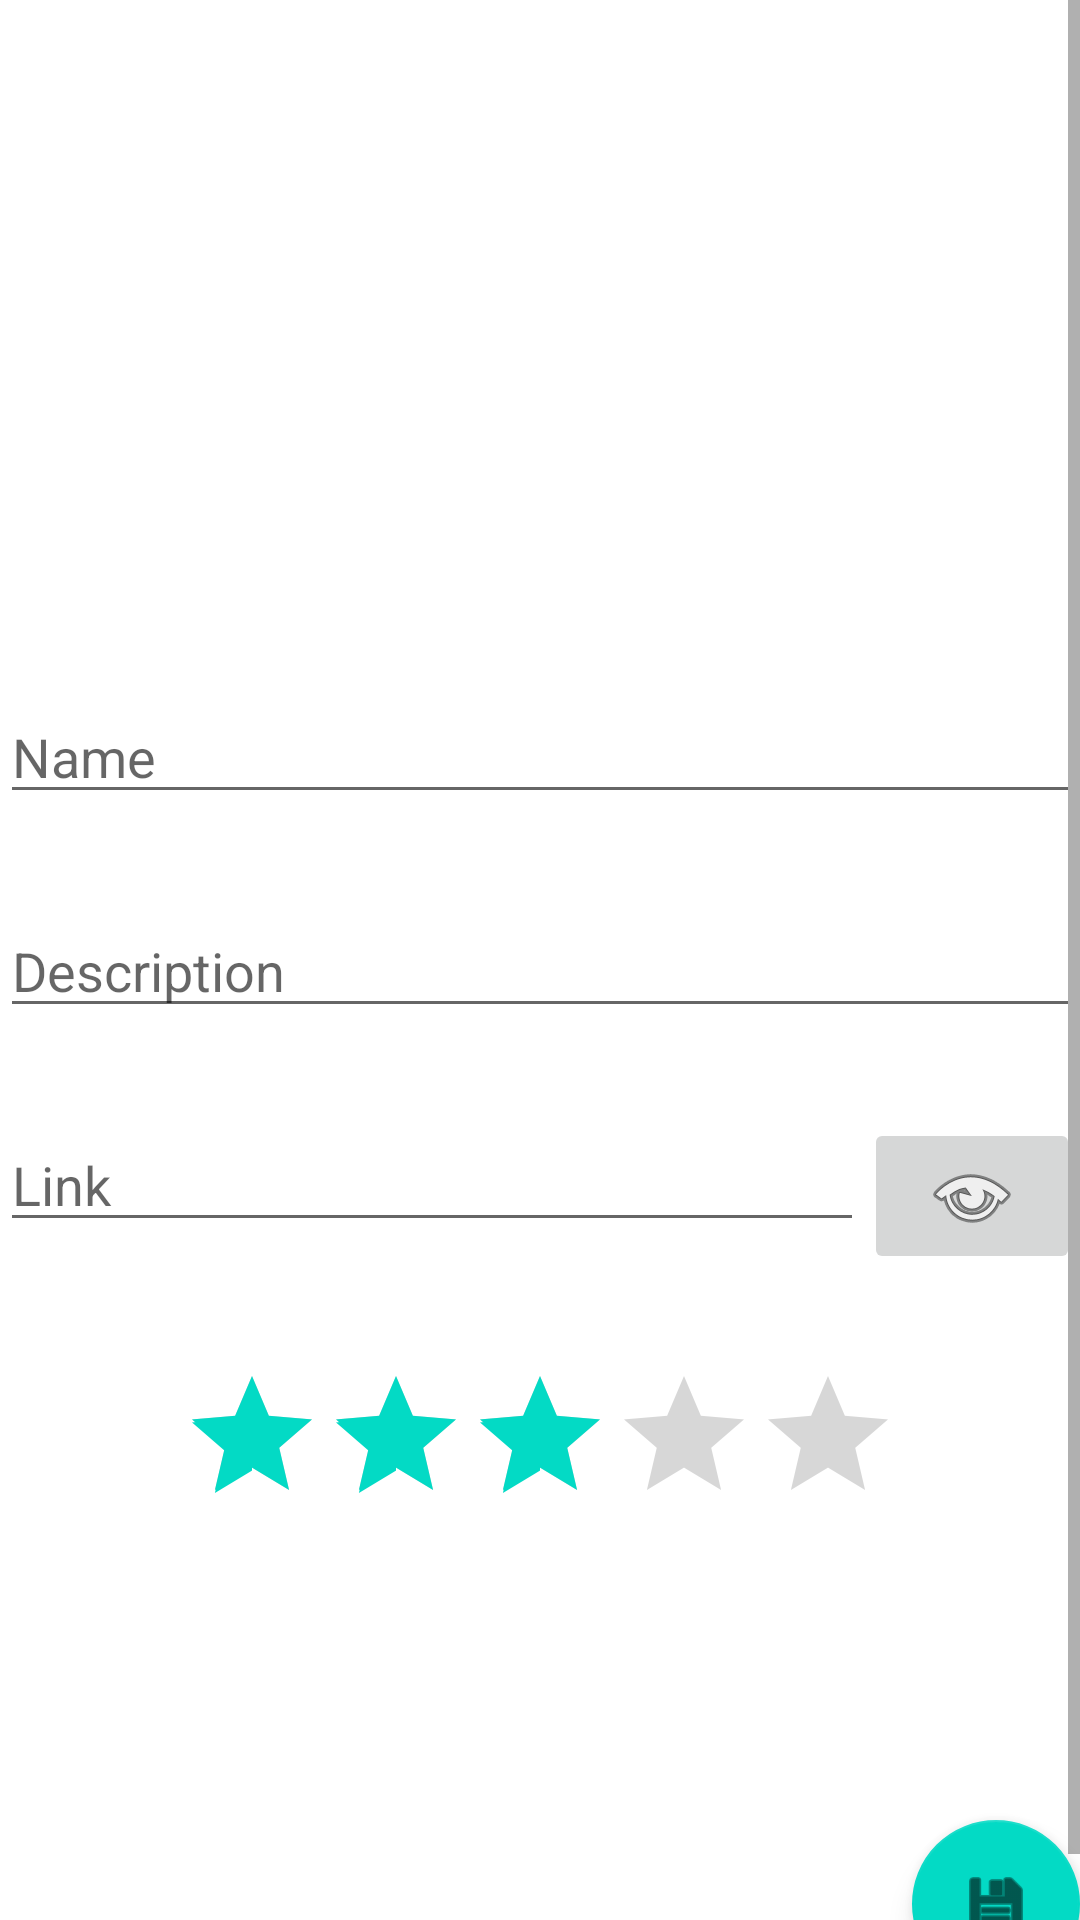

Named icons in this screenshot (1080×1920) and their bounding boxes, (left=x1, top=y1, right=x2, bottom=y2):
view: (left=876, top=1118, right=1080, bottom=1274)
